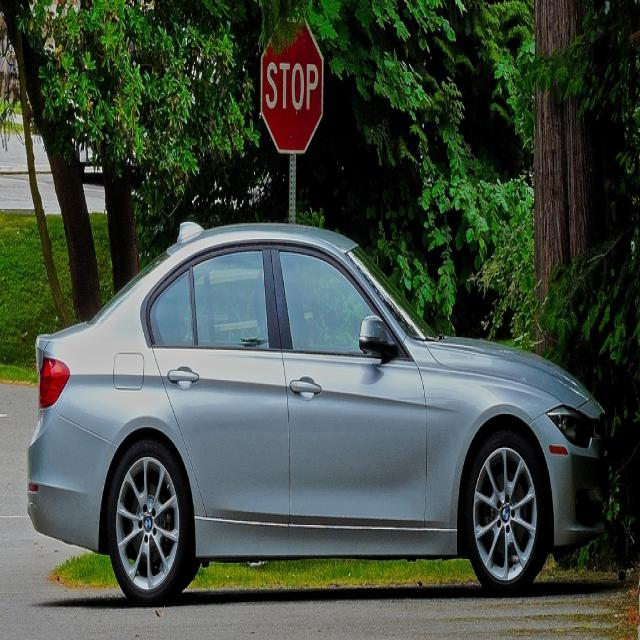Stop-sign: (258, 13, 326, 156)
